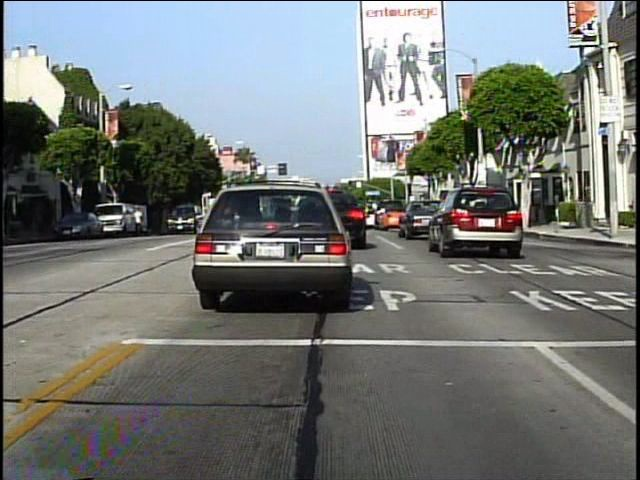person: (133, 204, 146, 239)
